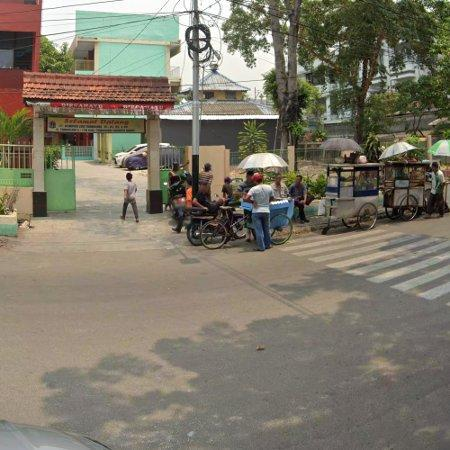crosswalks: (278, 228, 450, 304)
